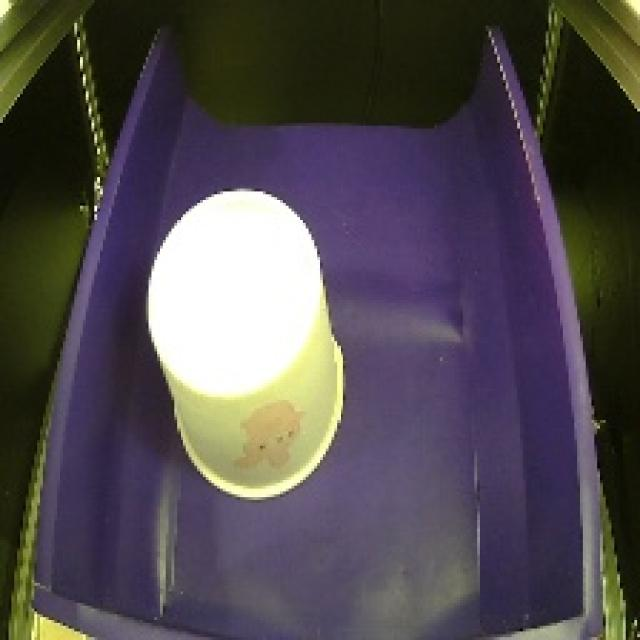cups: (134, 178, 358, 511)
